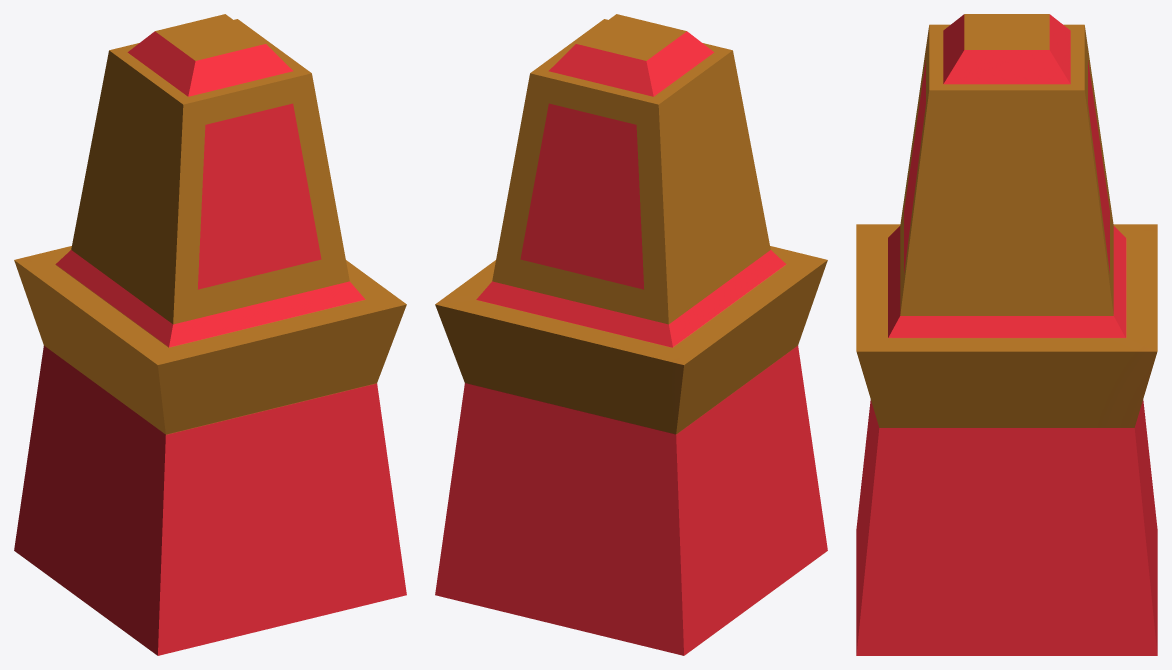
File: mediums.fbx
The picture shows the model from 3 angles, left to right: view 1: azimuth 30°, elevation 25°; view 2: azimuth 150°, elevation 25°; view 3: azimuth 270°, elevation 25°; orthographic projection. The views are drawn at different scales.
Parts seen in each view (by area): view 1: m1, m2; view 2: m1, m2; view 3: m1, m2.
Boxes of the visible parts, x1,y1,x2,y2 form: m1: (14,246,406,655); m2: (71,14,349,324); m1: (435,246,827,655); m2: (492,14,770,324); m1: (856,224,1157,655); m2: (900,14,1113,315).
Size of the model in its own units: 400 by 822 by 400.
2 materials, 2 textured.
